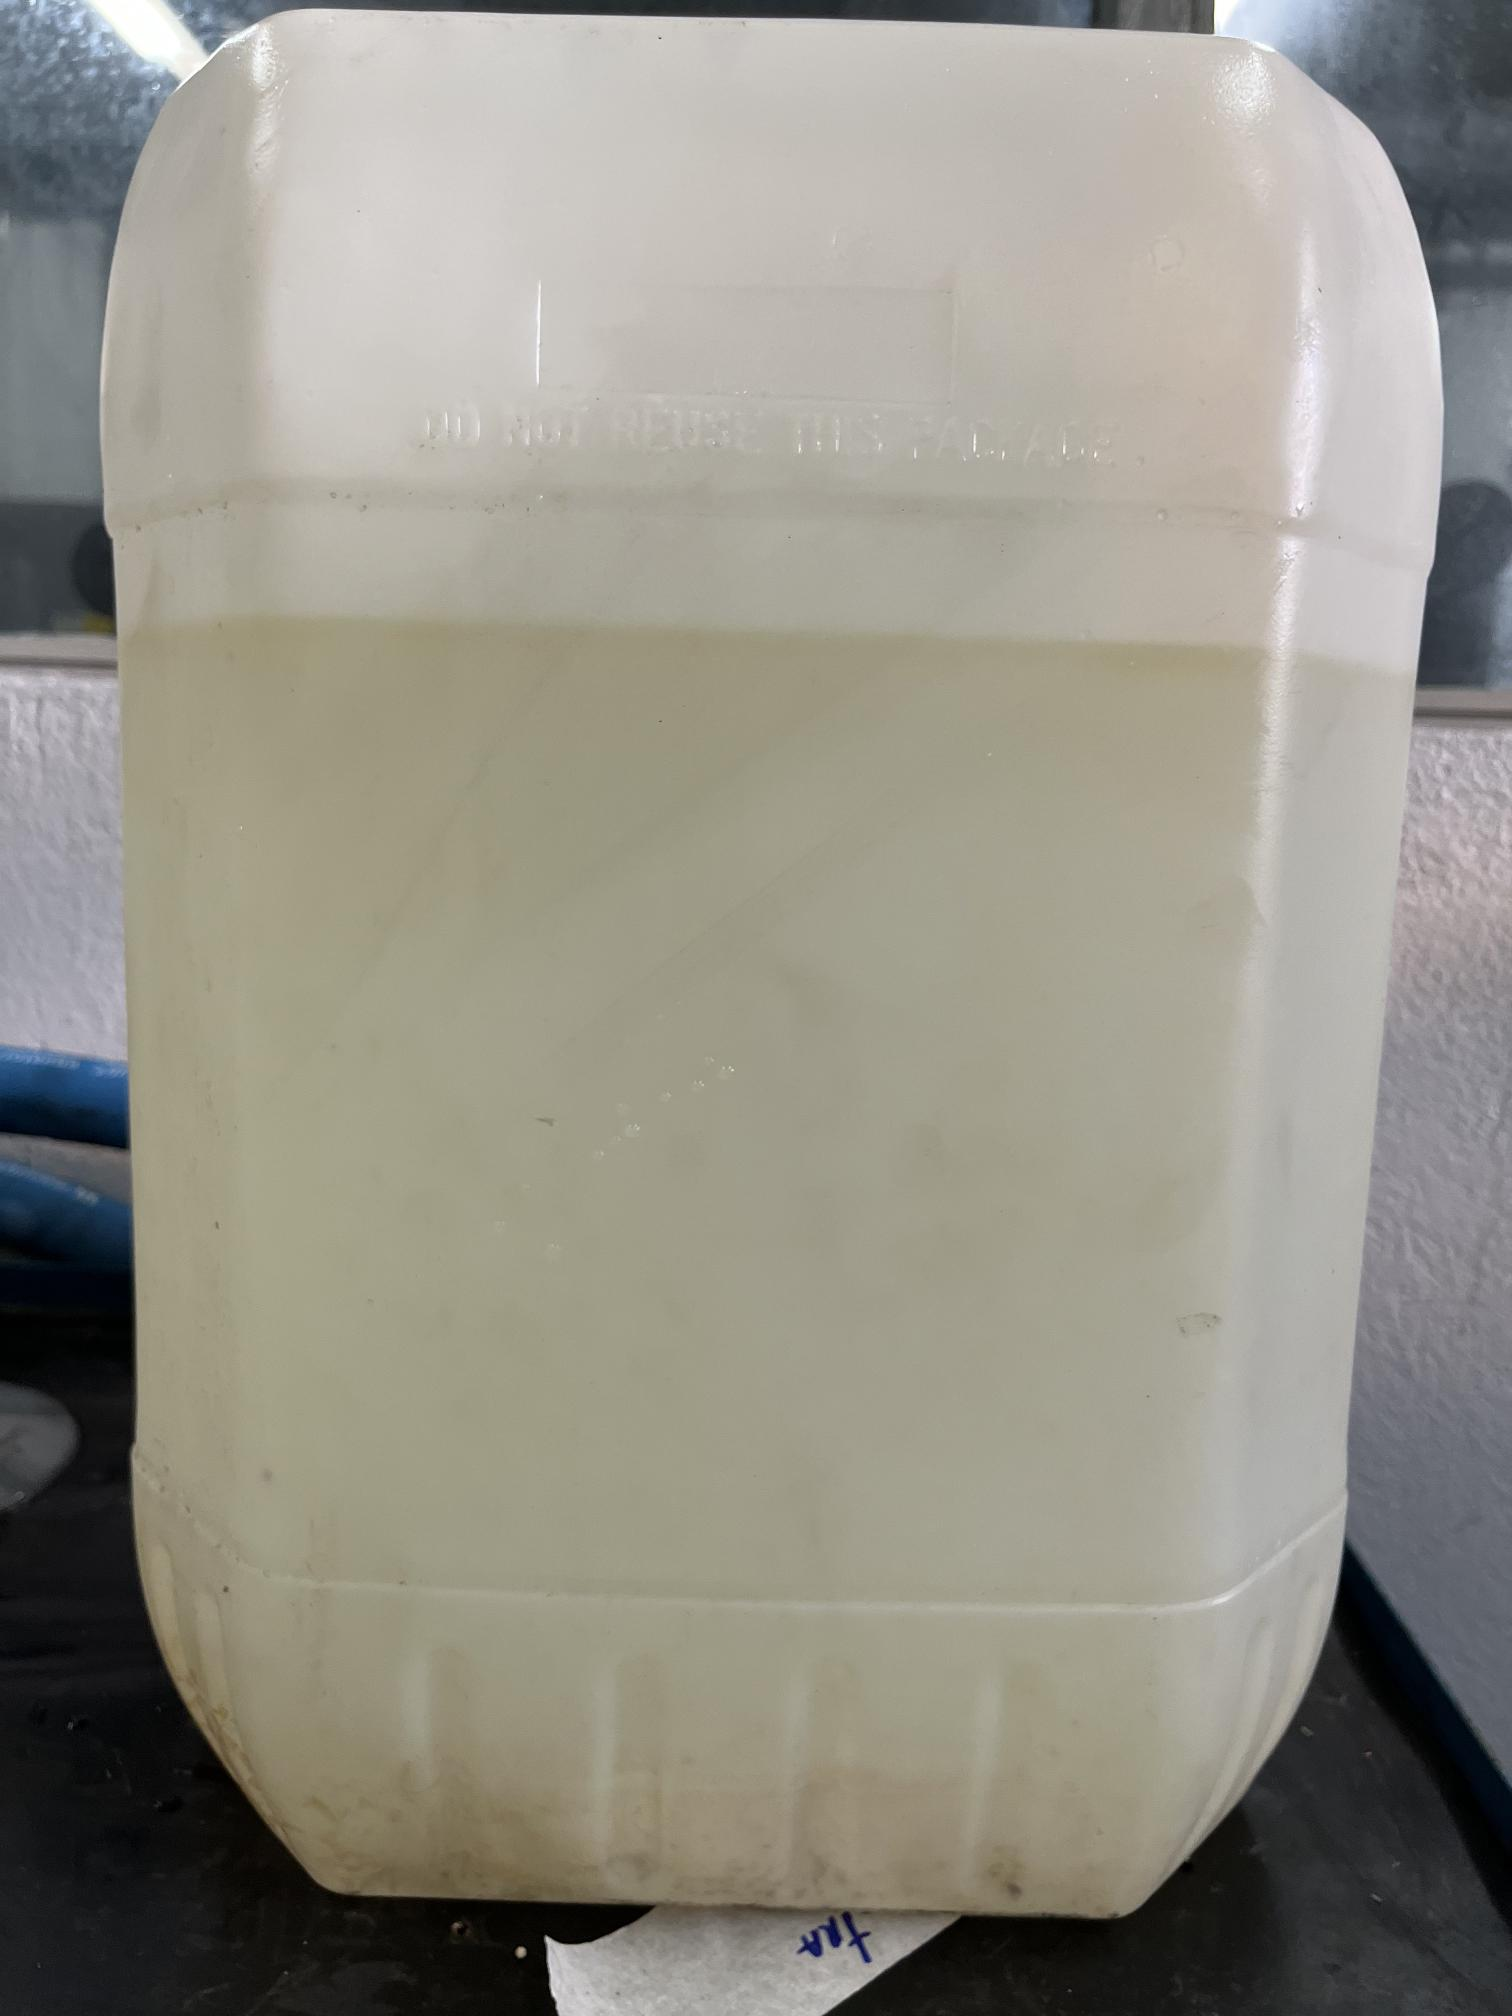Galao: (100, 30, 1394, 1914)
